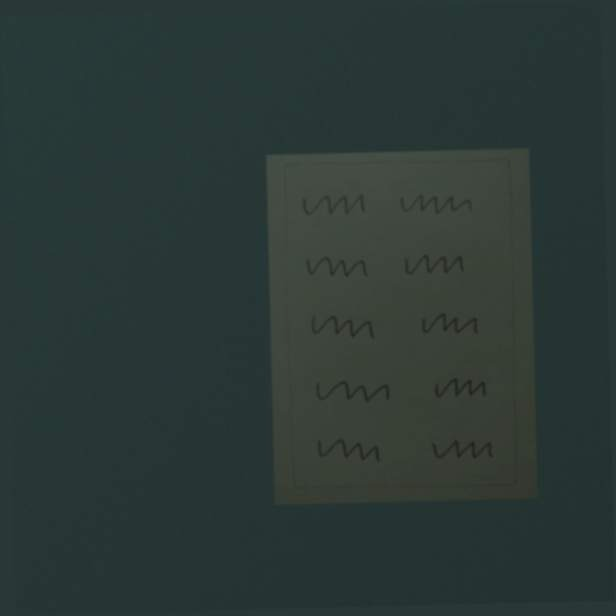text: (311, 373, 395, 414), (311, 432, 388, 470), (422, 432, 497, 471), (303, 309, 380, 346), (395, 187, 476, 221), (299, 251, 372, 286), (398, 249, 470, 281), (415, 308, 480, 343), (299, 190, 369, 220), (430, 372, 489, 405)
